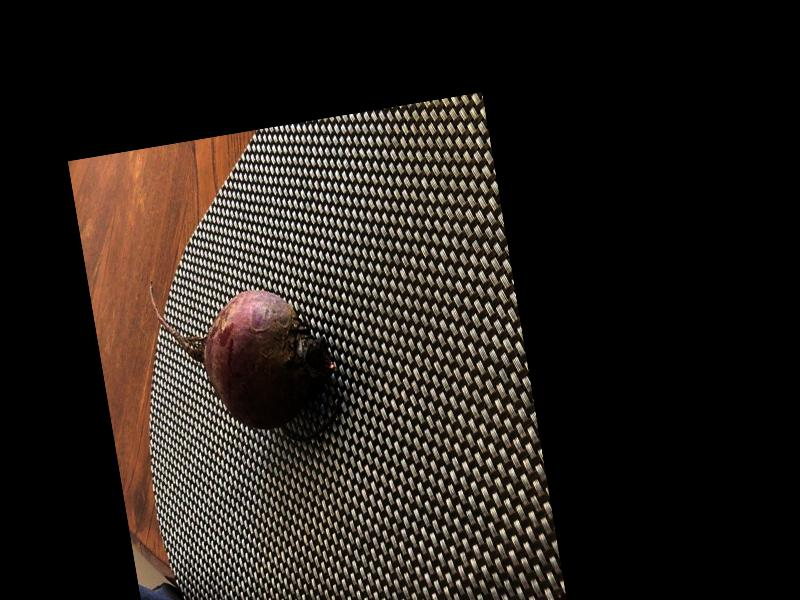Beet: (148, 255, 348, 463)
